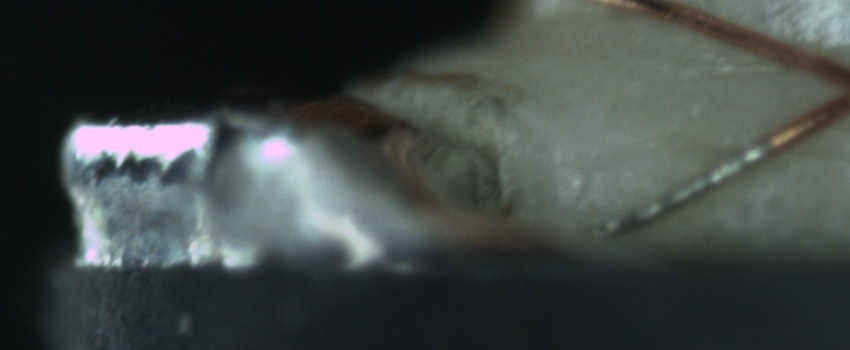DL: (657, 133, 850, 182)
TS: (588, 138, 773, 239)
TTCW: (581, 118, 810, 238)
